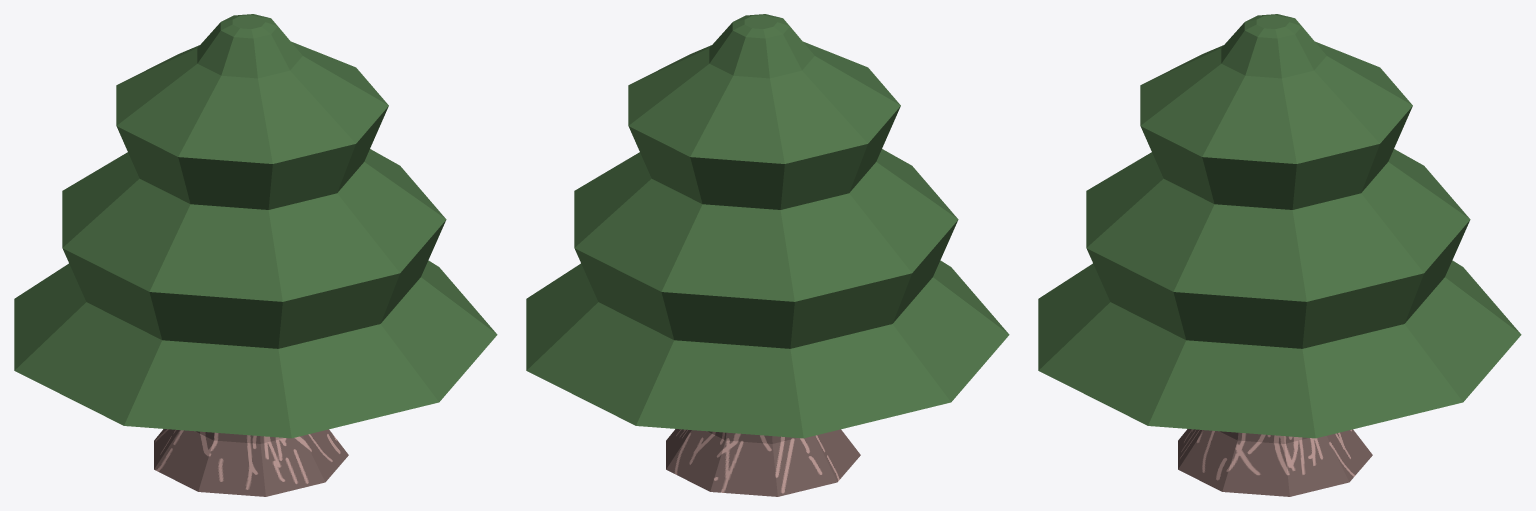
File: tree.glb
The picture shows the model from 3 angles, left to right: view 1: azimuth 30°, elevation 25°; view 2: azimuth 150°, elevation 25°; view 3: azimuth 270°, elevation 25°; orthographic projection.
Visible parts, largest first — view 1: Cylinder.001, Cylinder; view 2: Cylinder.001, Cylinder; view 3: Cylinder.001, Cylinder.
Boxes of the visible parts, <box> form: Cylinder.001: <box>14,14,497,438</box>; Cylinder: <box>154,429,348,496</box>; Cylinder.001: <box>526,14,1009,438</box>; Cylinder: <box>666,429,860,496</box>; Cylinder.001: <box>1038,14,1521,438</box>; Cylinder: <box>1178,429,1372,496</box>.
Size of the model in its own units: 4.52 by 4.4 by 4.45.
Materials: 2 (2 with a texture image).
